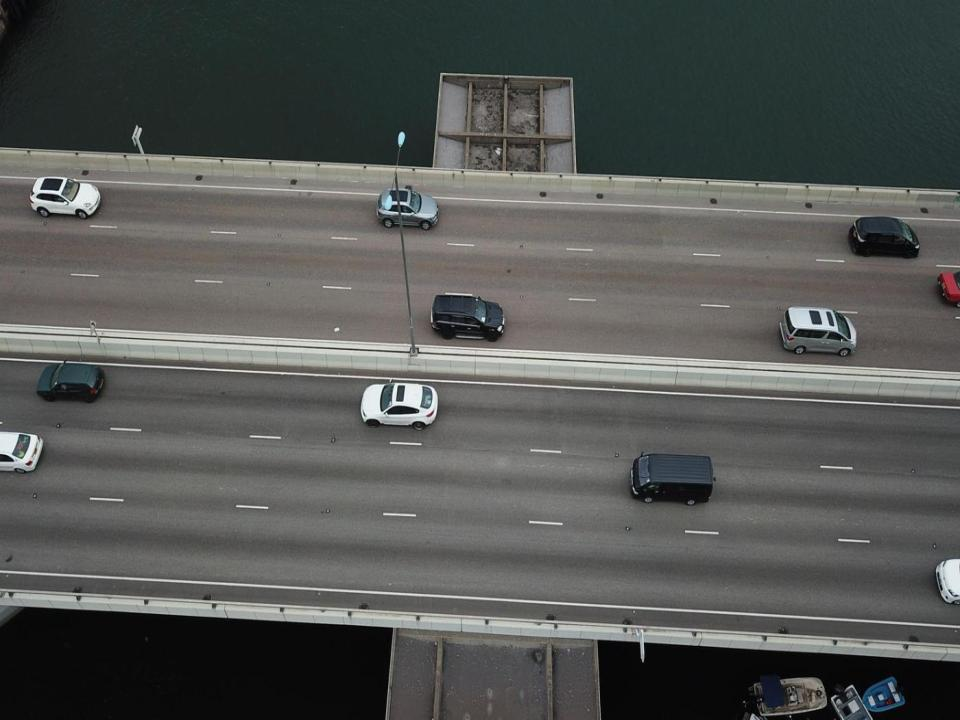car: (360, 377, 440, 432), (779, 305, 857, 356), (430, 292, 507, 342), (29, 173, 101, 220), (37, 358, 110, 404), (849, 214, 923, 258), (377, 185, 440, 230), (0, 430, 43, 474), (931, 552, 960, 608), (936, 269, 960, 303)
van: (628, 449, 717, 507)
